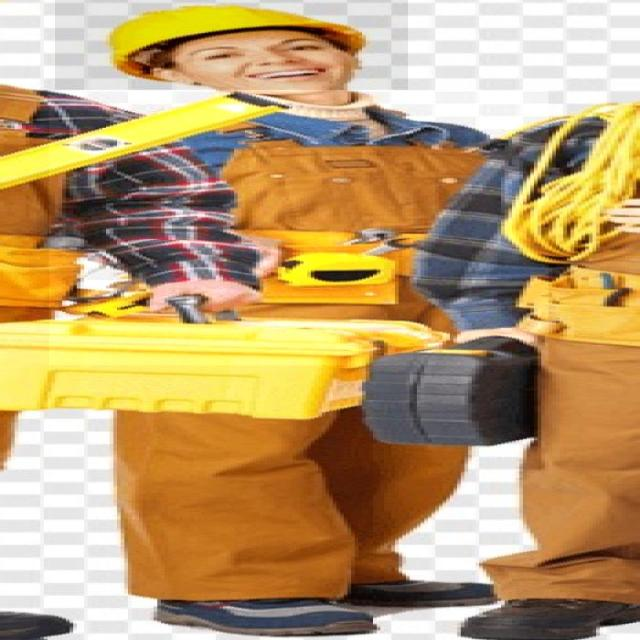Helmet: (49, 90, 549, 365), (55, 0, 408, 111)
